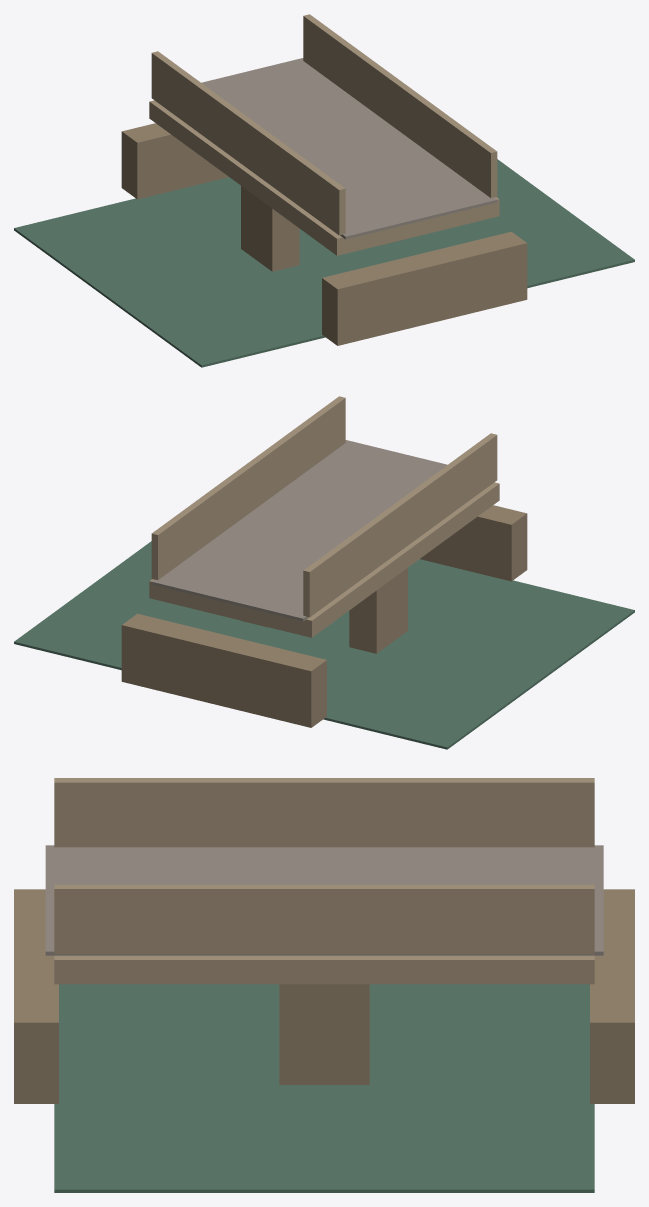
File: bridge-stone.glb
The picture shows the model from 3 angles, top to bottom: view 1: azimuth 30°, elevation 25°; view 2: azimuth 150°, elevation 25°; view 3: azimuth 270°, elevation 25°; orthographic projection. The views are drawn at different scales.
Parts seen in each view (by area): view 1: Mesh_Water, Mesh_DeckSurface, Mesh_AbutmentNear, Mesh_RailLeft, Mesh_RailRight, Mesh_BridgeDeck, Mesh_AbutmentFar, Mesh_SupportLeft; view 2: Mesh_Water, Mesh_DeckSurface, Mesh_AbutmentFar, Mesh_RailLeft, Mesh_RailRight, Mesh_BridgeDeck, Mesh_AbutmentNear, Mesh_SupportLeft; view 3: Mesh_Water, Mesh_RailRight, Mesh_RailLeft, Mesh_DeckSurface, Mesh_BridgeDeck, Mesh_SupportRight, Mesh_AbutmentNear, Mesh_AbutmentFar.
Part boxes in pixels (bbox=[...]): Mesh_Water: bbox=[14, 159, 634, 367]; Mesh_DeckSurface: bbox=[201, 58, 497, 239]; Mesh_AbutmentNear: bbox=[322, 231, 527, 345]; Mesh_RailLeft: bbox=[151, 51, 345, 235]; Mesh_RailRight: bbox=[303, 14, 497, 197]; Mesh_BridgeDeck: bbox=[149, 100, 499, 255]; Mesh_AbutmentFar: bbox=[121, 123, 228, 199]; Mesh_SupportLeft: bbox=[241, 186, 299, 271]; Mesh_Water: bbox=[14, 541, 634, 749]; Mesh_DeckSurface: bbox=[151, 440, 447, 621]; Mesh_AbutmentFar: bbox=[121, 613, 326, 727]; Mesh_RailLeft: bbox=[303, 433, 497, 617]; Mesh_RailRight: bbox=[151, 396, 345, 579]; Mesh_BridgeDeck: bbox=[149, 482, 499, 637]; Mesh_AbutmentNear: bbox=[420, 505, 527, 581]; Mesh_SupportLeft: bbox=[349, 568, 407, 653]; Mesh_Water: bbox=[54, 984, 594, 1192]; Mesh_RailRight: bbox=[54, 884, 594, 954]; Mesh_RailLeft: bbox=[54, 778, 594, 847]; Mesh_DeckSurface: bbox=[45, 845, 603, 955]; Mesh_BridgeDeck: bbox=[54, 955, 594, 984]; Mesh_SupportRight: bbox=[279, 984, 369, 1084]; Mesh_AbutmentNear: bbox=[14, 889, 58, 1103]; Mesh_AbutmentFar: bbox=[590, 889, 634, 1103].
Bounding box in the file's own units: 8 × 2.65 × 6.9.
